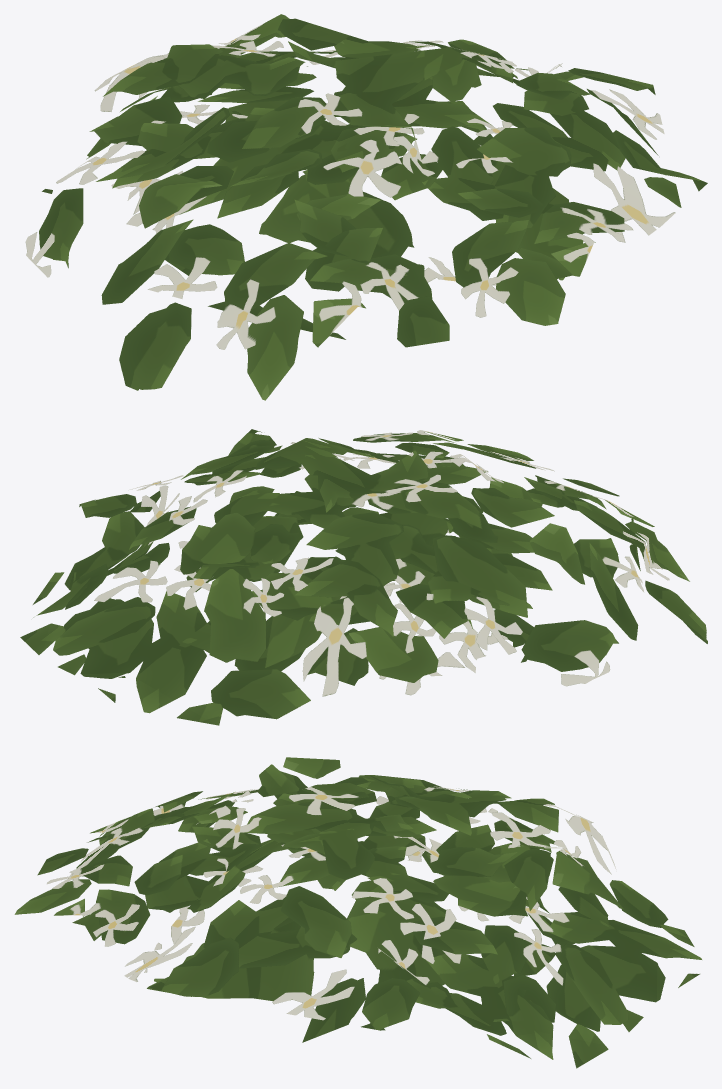
File: SM_Env_Bush_03.fbx
3 views of the same model, one above another, from view 1: azimuth 30°, elevation 25°; view 2: azimuth 150°, elevation 25°; view 3: azimuth 270°, elevation 25° (orthographic). The views are drawn at different scales.
Parts seen in each view (by area): view 1: SM_Env_Bush_03_LOD0; view 2: SM_Env_Bush_03_LOD0; view 3: SM_Env_Bush_03_LOD0.
Part boxes in pixels (<box>): SM_Env_Bush_03_LOD0: <box>25,14,707,400</box>; SM_Env_Bush_03_LOD0: <box>20,429,707,725</box>; SM_Env_Bush_03_LOD0: <box>14,757,701,1068</box>.
Size of what is drawn, in the model's own units: 132 by 37.82 by 139.
